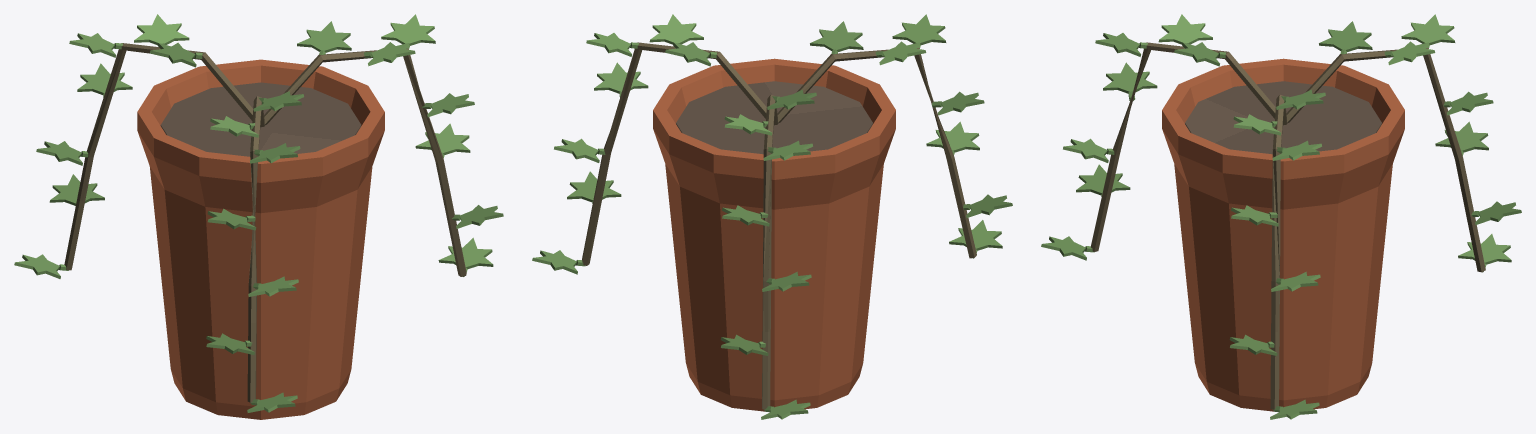
File: vine.glb
The picture shows the model from 3 angles, left to right: view 1: azimuth 30°, elevation 25°; view 2: azimuth 150°, elevation 25°; view 3: azimuth 270°, elevation 25°; orthographic projection.
Visible parts, largest first — view 1: vine/review-terra-vessel, vine/review-rooted-soil, vine/stem-001, vine/stem-031, vine/stem-016, vine/leaf-005, vine/leaf-033, vine/leaf-037, vine/leaf-009, vine/leaf-013, vine/leaf-041, vine/leaf-045 (+14 smaller); view 2: vine/review-terra-vessel, vine/review-rooted-soil, vine/stem-031, vine/stem-001, vine/stem-016, vine/leaf-018, vine/leaf-035, vine/leaf-022, vine/leaf-026, vine/leaf-039, vine/leaf-043, vine/leaf-030 (+14 smaller); view 3: vine/review-terra-vessel, vine/review-rooted-soil, vine/stem-001, vine/stem-031, vine/stem-016, vine/leaf-003, vine/leaf-020, vine/leaf-007, vine/leaf-024, vine/leaf-028, vine/leaf-011, vine/leaf-015 (+14 smaller).
Part boxes in pixels (x1,y1,x2,y2): vine/review-terra-vessel: [137, 59, 384, 419]; vine/review-rooted-soil: [160, 82, 361, 156]; vine/stem-001: [64, 43, 253, 270]; vine/stem-031: [264, 48, 466, 276]; vine/stem-016: [247, 96, 264, 402]; vine/leaf-005: [134, 14, 189, 44]; vine/leaf-033: [297, 21, 351, 52]; vine/leaf-037: [381, 14, 435, 45]; vine/leaf-009: [77, 63, 132, 94]; vine/leaf-013: [49, 174, 104, 205]; vine/leaf-041: [415, 123, 470, 154]; vine/leaf-045: [438, 237, 493, 268]; vine/review-terra-vessel: [653, 58, 895, 411]; vine/review-rooted-soil: [676, 81, 872, 154]; vine/stem-031: [582, 42, 766, 265]; vine/stem-001: [762, 94, 777, 409]; vine/stem-016: [777, 48, 976, 258]; vine/leaf-018: [810, 21, 863, 51]; vine/leaf-035: [649, 14, 703, 44]; vine/leaf-022: [892, 14, 946, 45]; vine/leaf-026: [926, 121, 979, 152]; vine/leaf-039: [594, 62, 648, 93]; vine/leaf-043: [567, 171, 621, 202]; vine/leaf-030: [949, 220, 1002, 250]; vine/review-terra-vessel: [1162, 58, 1404, 411]; vine/review-rooted-soil: [1185, 81, 1381, 154]; vine/stem-001: [1286, 48, 1485, 272]; vine/stem-031: [1270, 94, 1286, 409]; vine/stem-016: [1090, 42, 1275, 251]; vine/leaf-003: [1319, 21, 1372, 51]; vine/leaf-020: [1158, 14, 1212, 44]; vine/leaf-007: [1401, 14, 1455, 45]; vine/leaf-024: [1103, 62, 1157, 93]; vine/leaf-028: [1076, 164, 1130, 195]; vine/leaf-011: [1435, 121, 1488, 152]; vine/leaf-015: [1458, 234, 1511, 264].
Bounding box in the file's own units: 0.3403 × 0.2757 × 0.3759.
4 materials, 4 textured.
